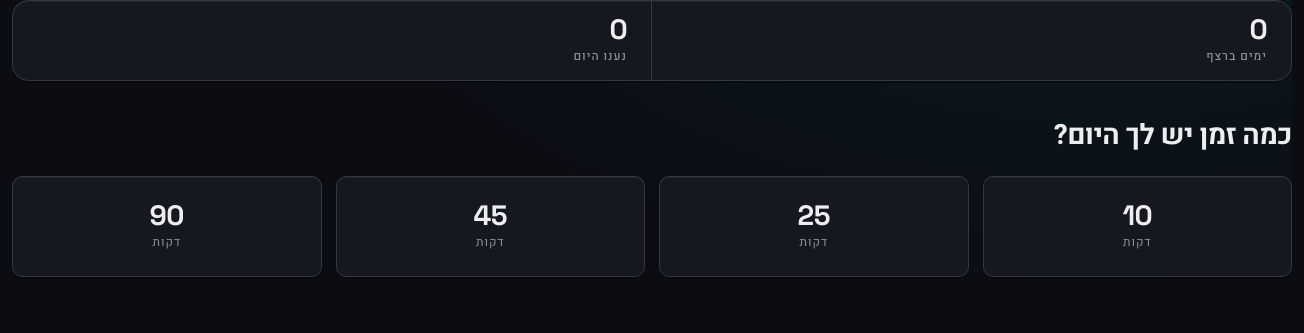
TodayScreen corrupt-storage handling › shows a visible failure state instead of going silently inert when the stored profile is corrupt
The image size is (1304, 333).
Click the button "10 דקות" at (1137, 227), box [982, 176, 1292, 277]
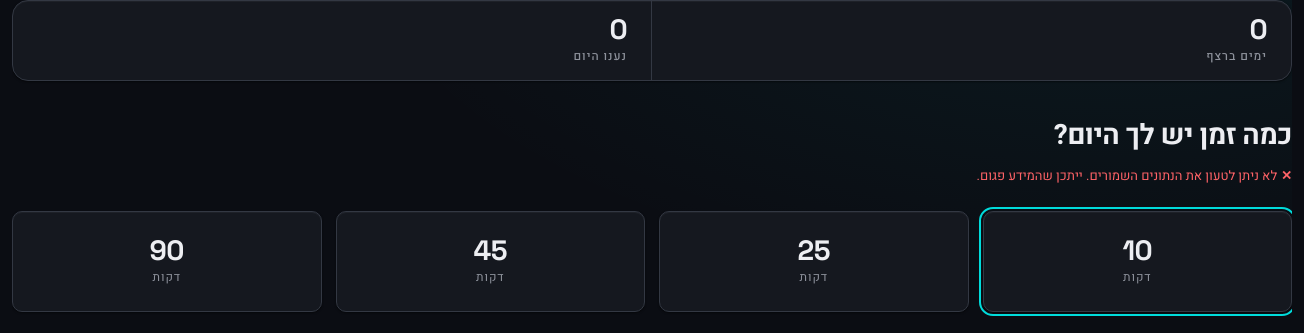
Now the message named "שגיאת טעינה" shows "לא ניתן לטעון את הנתונים השמורים", box [976, 166, 1277, 185]
Now the number of messages is 1, box [976, 166, 1292, 185]
